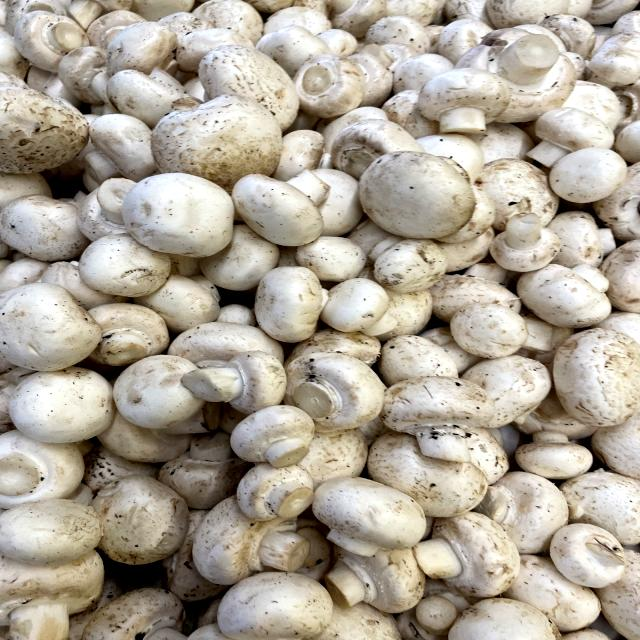mushroom: (369, 362, 504, 471), (400, 499, 533, 604), (308, 467, 431, 568), (117, 165, 236, 267), (272, 344, 384, 441), (230, 154, 338, 252), (405, 64, 523, 146), (179, 341, 284, 424), (217, 396, 324, 473), (509, 417, 602, 489), (479, 202, 565, 278), (287, 49, 368, 121)
